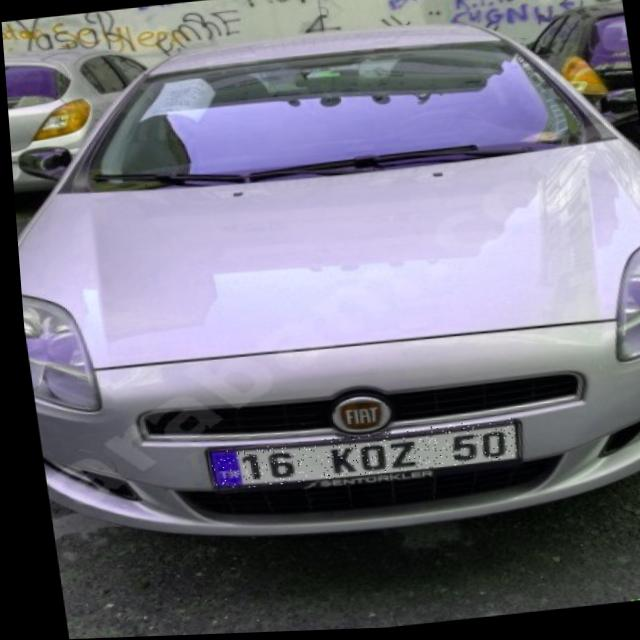license_plate: (198, 421, 512, 492)
